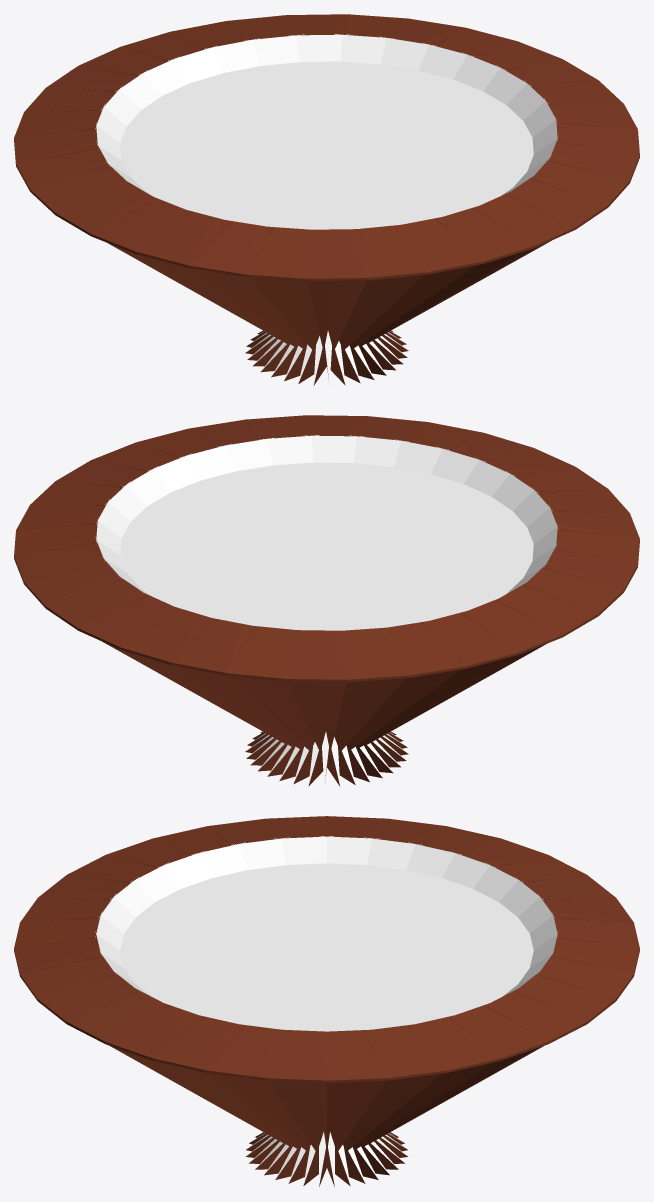
The model's file is jap17.fbx.
3 views of the same model, one above another, from view 1: azimuth 30°, elevation 25°; view 2: azimuth 150°, elevation 25°; view 3: azimuth 270°, elevation 25° (orthographic).
Parts seen in each view (by area): view 1: Cone; view 2: Cone; view 3: Cone.
Part boxes in pixels (x1=…): Cone: x1=14, y1=14, x2=639, y2=385; Cone: x1=14, y1=415, x2=639, y2=786; Cone: x1=14, y1=816, x2=639, y2=1186.
Size of the model in its own units: 530 by 218 by 530.
